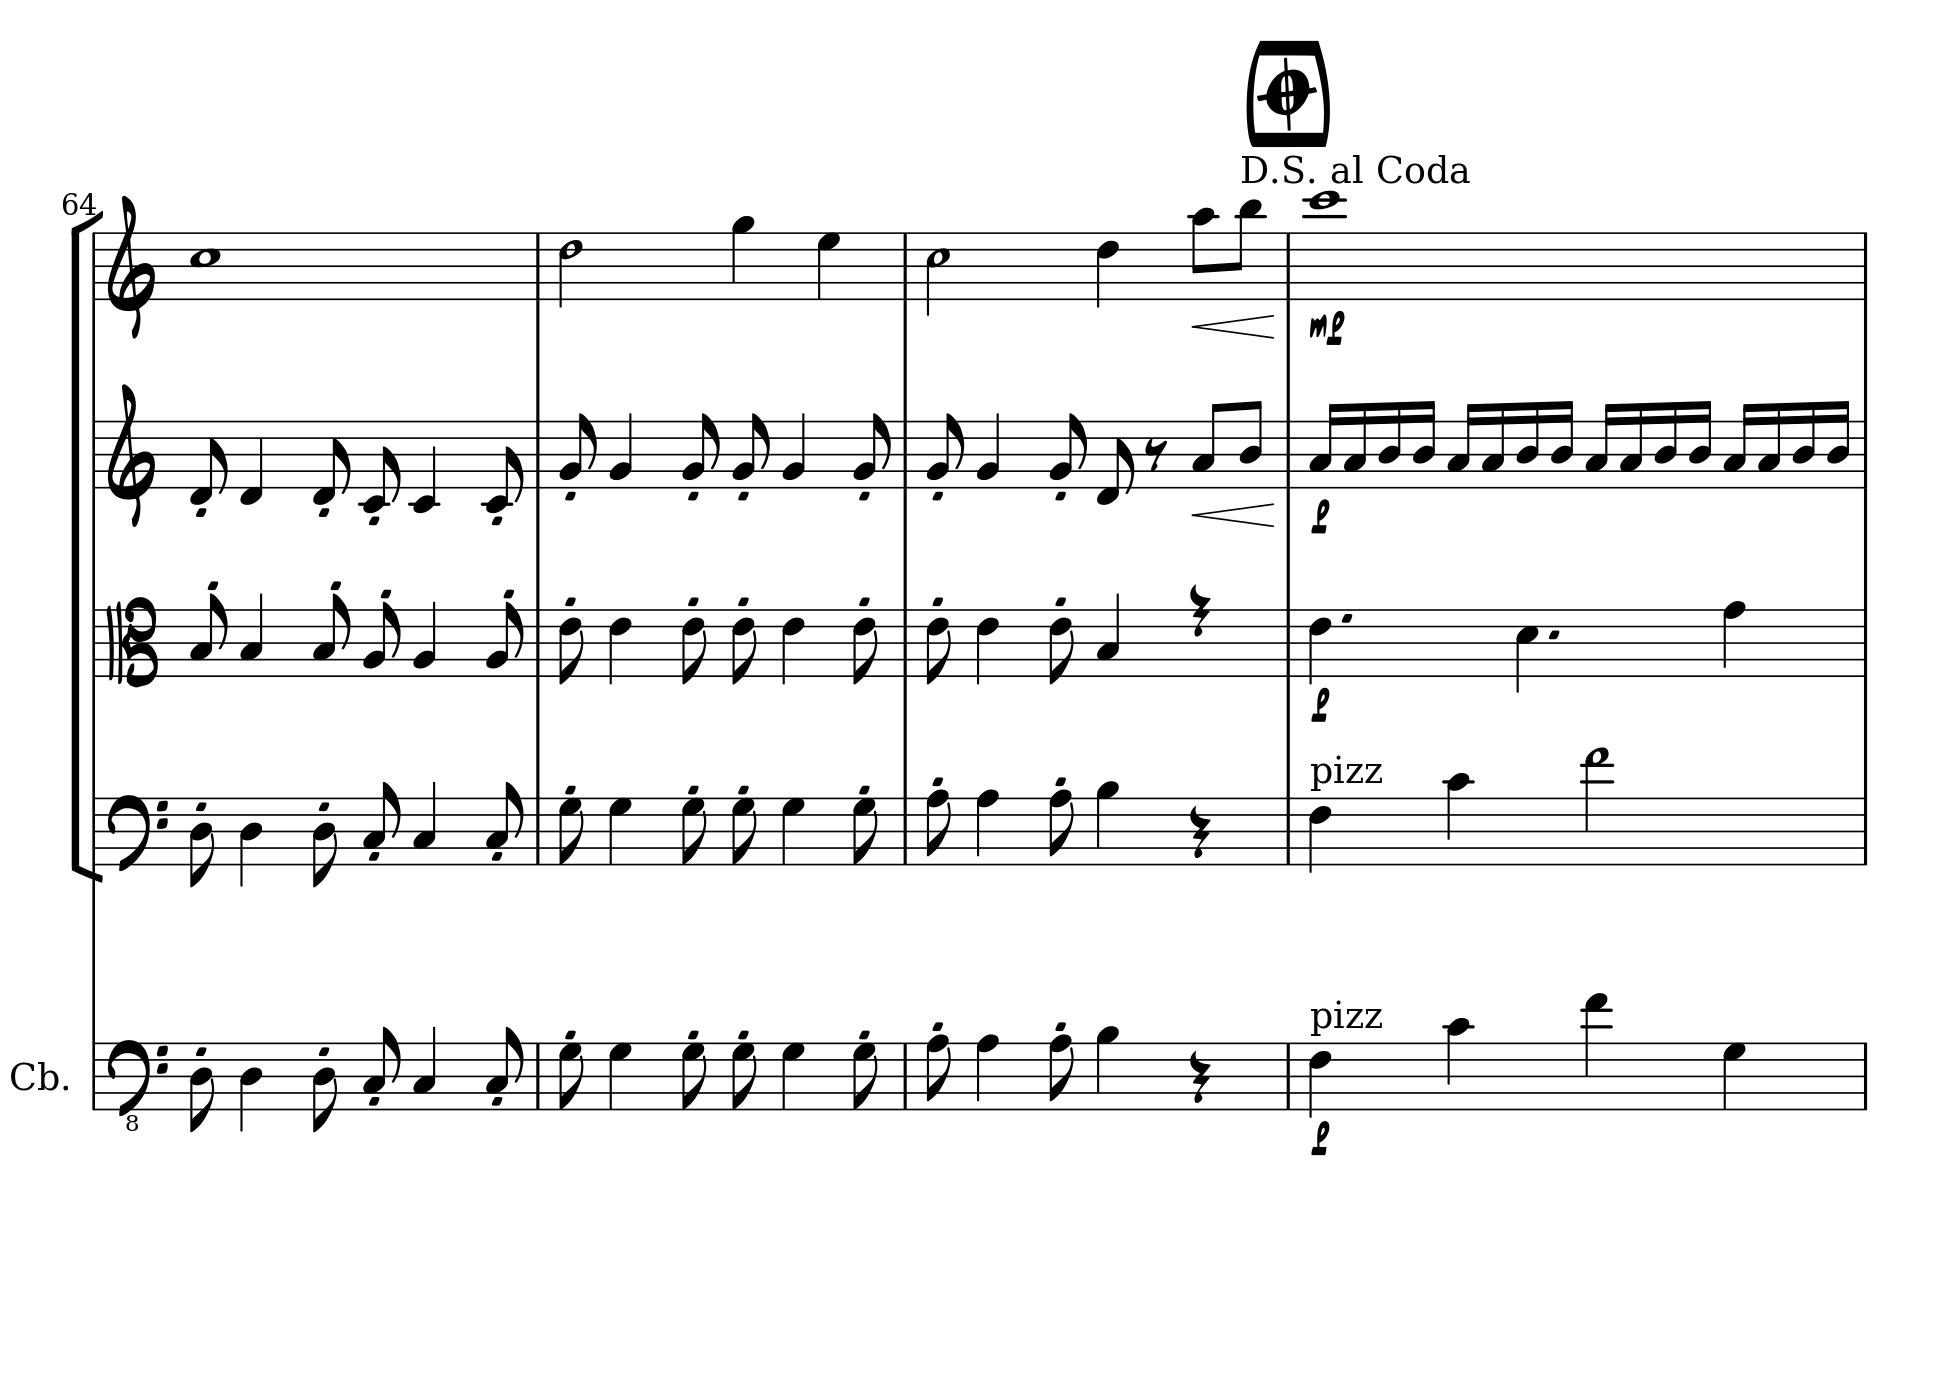16_3: (1722, 400, 1756, 490), (1306, 400, 1341, 489), (1582, 400, 1617, 489), (1446, 400, 1479, 489), (1480, 400, 1507, 490), (1618, 400, 1645, 490), (1342, 400, 1368, 490), (1758, 400, 1783, 490)
16_4: (1377, 399, 1404, 490), (1515, 399, 1542, 490), (1653, 399, 1680, 489), (1411, 397, 1437, 490), (1549, 397, 1575, 490), (1687, 397, 1713, 490), (1792, 399, 1818, 490), (1827, 397, 1852, 489)
1_12: (1305, 187, 1345, 301)
1_5: (187, 229, 222, 301)
2_5: (924, 229, 951, 316)
2_6: (556, 229, 585, 307)
4: (79, 190, 97, 214)
4_-1: (238, 418, 267, 505)
4_-2: (409, 418, 441, 517)
4_10: (1443, 769, 1474, 867), (1444, 1015, 1474, 1111)
4_13: (1582, 745, 1612, 868), (1582, 991, 1611, 1111)
4_2: (607, 409, 636, 490), (412, 598, 441, 679), (781, 411, 808, 490), (976, 411, 1003, 490)
4_3: (411, 1024, 439, 1111), (238, 591, 267, 676), (1096, 591, 1123, 679), (412, 778, 439, 865)
4_4: (235, 793, 265, 889), (237, 1038, 264, 1134)
4_5: (1513, 606, 1540, 694)
4_6: (604, 604, 634, 685), (1308, 1039, 1338, 1117), (973, 604, 1002, 685), (778, 606, 807, 685), (1308, 795, 1336, 874), (1308, 604, 1335, 684), (1095, 229, 1119, 309)
4_7: (606, 793, 634, 865), (778, 795, 807, 864), (606, 1039, 633, 1111), (1722, 1039, 1749, 1110), (816, 229, 841, 300), (780, 1041, 805, 1111)
4_8: (1720, 598, 1749, 679), (973, 786, 1002, 865), (973, 1032, 1002, 1111)
4_9: (1095, 778, 1122, 867), (1095, 1024, 1122, 1111), (730, 213, 756, 301)
6: (61, 189, 79, 216)
8_-1: (310, 418, 354, 505), (189, 418, 229, 507), (1096, 420, 1137, 507)
8_-2: (358, 417, 403, 514), (481, 417, 525, 513)
8_10: (1191, 205, 1218, 301)
8_11: (1228, 198, 1263, 301)
8_2: (1047, 412, 1089, 490), (558, 411, 598, 489), (850, 411, 891, 489), (484, 598, 523, 678), (679, 412, 718, 489), (730, 412, 769, 489), (925, 412, 964, 489), (363, 598, 400, 676)
8_3: (361, 1024, 400, 1111), (484, 1024, 523, 1111), (361, 780, 400, 865), (484, 780, 523, 865), (189, 592, 226, 678), (312, 592, 349, 678), (1191, 402, 1224, 490)
8_4: (186, 795, 217, 889), (310, 795, 340, 889), (310, 1039, 339, 1134), (187, 1039, 216, 1132), (1239, 399, 1266, 490)
8_6: (555, 607, 586, 685), (922, 606, 952, 685), (727, 607, 757, 685), (679, 607, 708, 685), (850, 607, 879, 685), (1047, 607, 1075, 685)
8_7: (679, 1041, 709, 1113), (679, 796, 708, 868), (729, 1039, 757, 1111), (850, 1041, 879, 1113), (556, 796, 585, 867), (729, 796, 757, 867), (556, 1041, 585, 1111), (850, 796, 877, 868)
8_8: (922, 1033, 952, 1111), (1047, 787, 1075, 868), (924, 787, 952, 865), (1047, 1033, 1075, 1111)
Bracke: (64, 219, 108, 883)
Cclef: (103, 595, 159, 688)
Coda: (1260, 55, 1315, 127)
Crescendo_hairpin: (1194, 313, 1278, 342)
DSalcoda: (1236, 151, 1482, 190)
Diminuendo_hairpin: (1189, 502, 1275, 529)
Fclef: (103, 789, 171, 874)
Gclef: (106, 381, 159, 528), (106, 193, 157, 339)
Lower_Fclef: (103, 1035, 169, 1132)
Ob: (7, 1054, 60, 1098)
Rests4: (1186, 802, 1213, 859), (1188, 1048, 1212, 1105), (1188, 582, 1212, 637)
Rests8: (1143, 436, 1168, 472)
Single_barline: (895, 232, 915, 298), (528, 607, 546, 676), (895, 607, 913, 676), (85, 799, 103, 868), (895, 420, 913, 487), (895, 796, 913, 864), (1857, 232, 1875, 298), (529, 232, 547, 298), (85, 420, 102, 487), (529, 420, 546, 487), (85, 607, 102, 675), (529, 796, 546, 864), (1857, 796, 1873, 864), (1857, 421, 1873, 487), (1857, 609, 1873, 675), (529, 1042, 546, 1108), (897, 1042, 913, 1108), (1857, 1042, 1873, 1108), (87, 232, 102, 300), (1281, 420, 1296, 487), (1281, 796, 1296, 864), (1281, 232, 1296, 298), (1281, 609, 1296, 675), (1281, 1042, 1296, 1108), (87, 1042, 100, 1108)
dot: (1338, 609, 1356, 625), (1545, 625, 1563, 642)
mp: (1306, 309, 1350, 349)
p: (1309, 496, 1333, 538), (1308, 685, 1333, 724), (1309, 1119, 1335, 1158)
